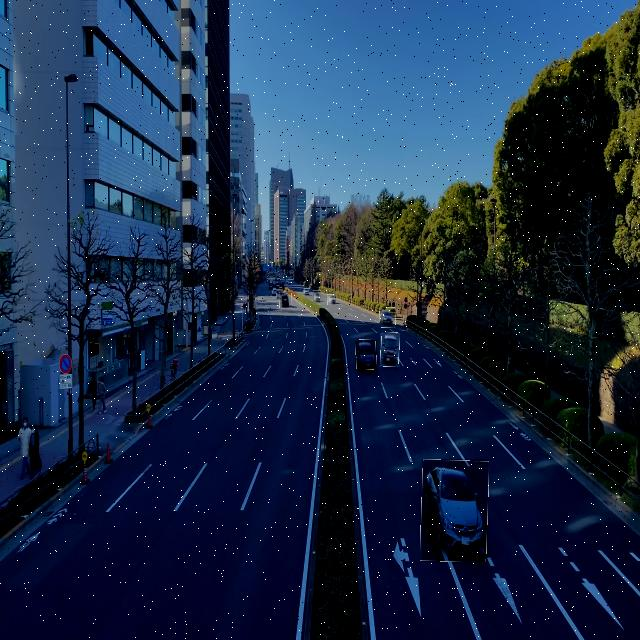Car: (422, 459, 488, 562), (380, 333, 400, 367), (355, 340, 377, 370), (380, 308, 396, 328), (280, 292, 292, 308), (313, 290, 321, 303), (327, 294, 336, 305)
